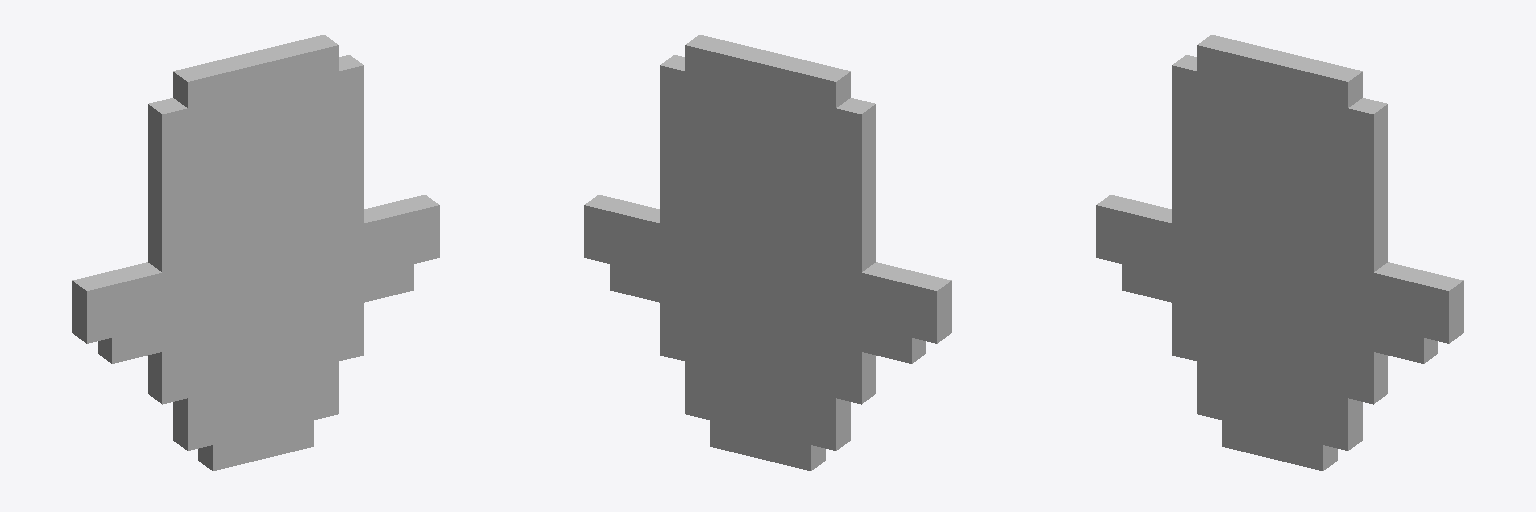
The model's file is totem.obj.
3 views of the same model, side by side, from view 1: azimuth 30°, elevation 25°; view 2: azimuth 150°, elevation 25°; view 3: azimuth 330°, elevation 25° (orthographic).
Parts seen in each view (by area): view 1: Cube.001; view 2: Cube.001; view 3: Cube.001.
Boxes of the visible parts, x1,y1,x2,y2 form: Cube.001: [72, 35, 439, 470]; Cube.001: [584, 35, 951, 470]; Cube.001: [1096, 35, 1463, 470].
Bounding box in the file's own units: 0.875 × 0.9375 × 0.0625.